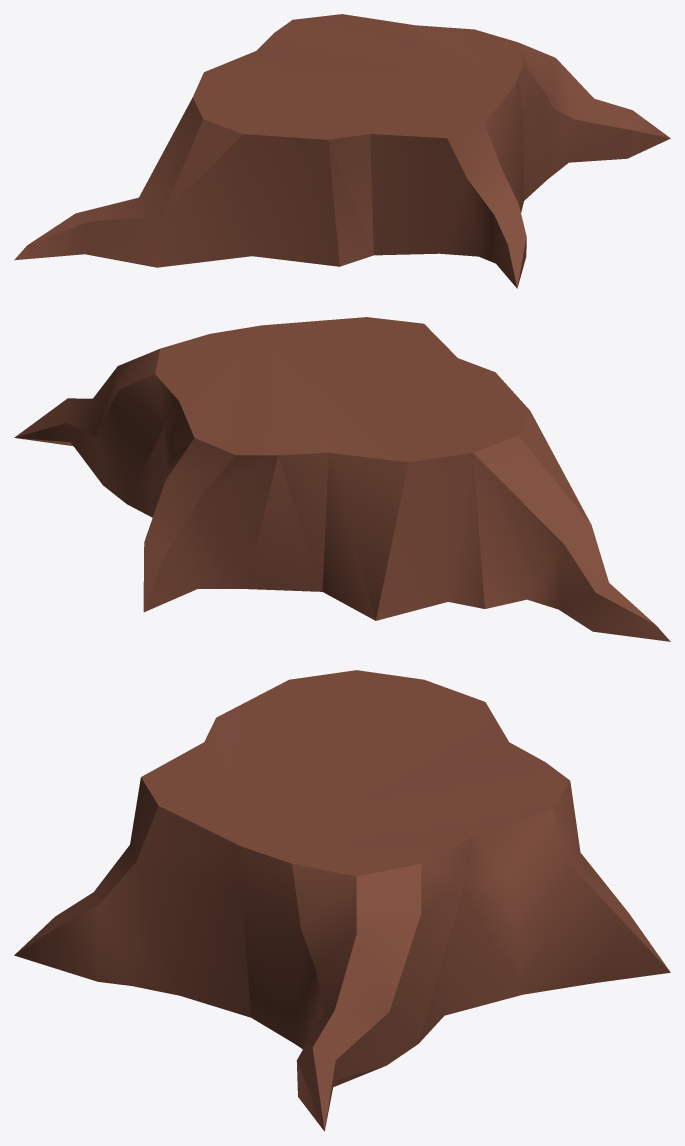
The model's file is FINAL_Tree_Bottom_3.fbx.
The picture shows the model from 3 angles, top to bottom: view 1: azimuth 30°, elevation 25°; view 2: azimuth 150°, elevation 25°; view 3: azimuth 270°, elevation 25°; orthographic projection. The views are drawn at different scales.
Parts seen in each view (by area): view 1: Tree_free_02.003; view 2: Tree_free_02.003; view 3: Tree_free_02.003.
Part boxes in pixels (x1,y1,x2,y2): Tree_free_02.003: (14, 14, 670, 288); Tree_free_02.003: (14, 317, 670, 641); Tree_free_02.003: (14, 670, 670, 1131).
Size of the model in its own units: 330 by 62.19 by 227.
